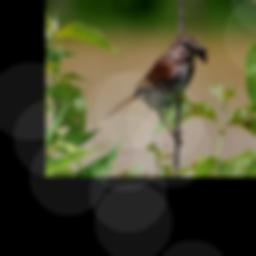Sparrow: (104, 35, 207, 145)
